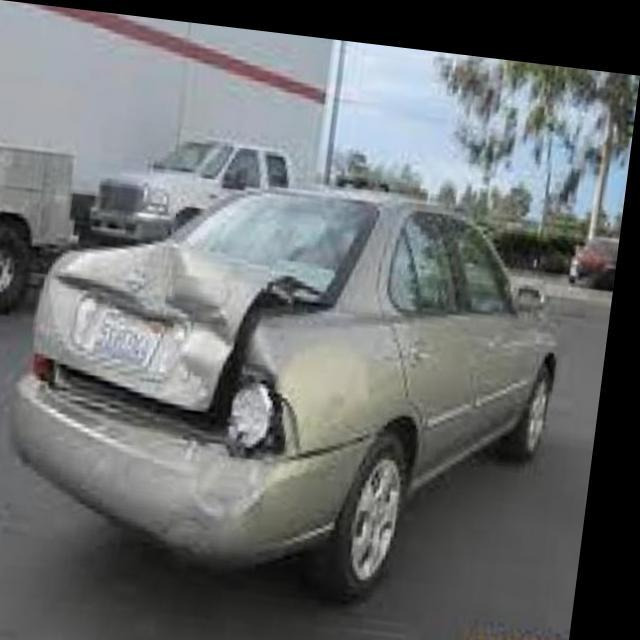dislocated part: (39, 237, 332, 502)
